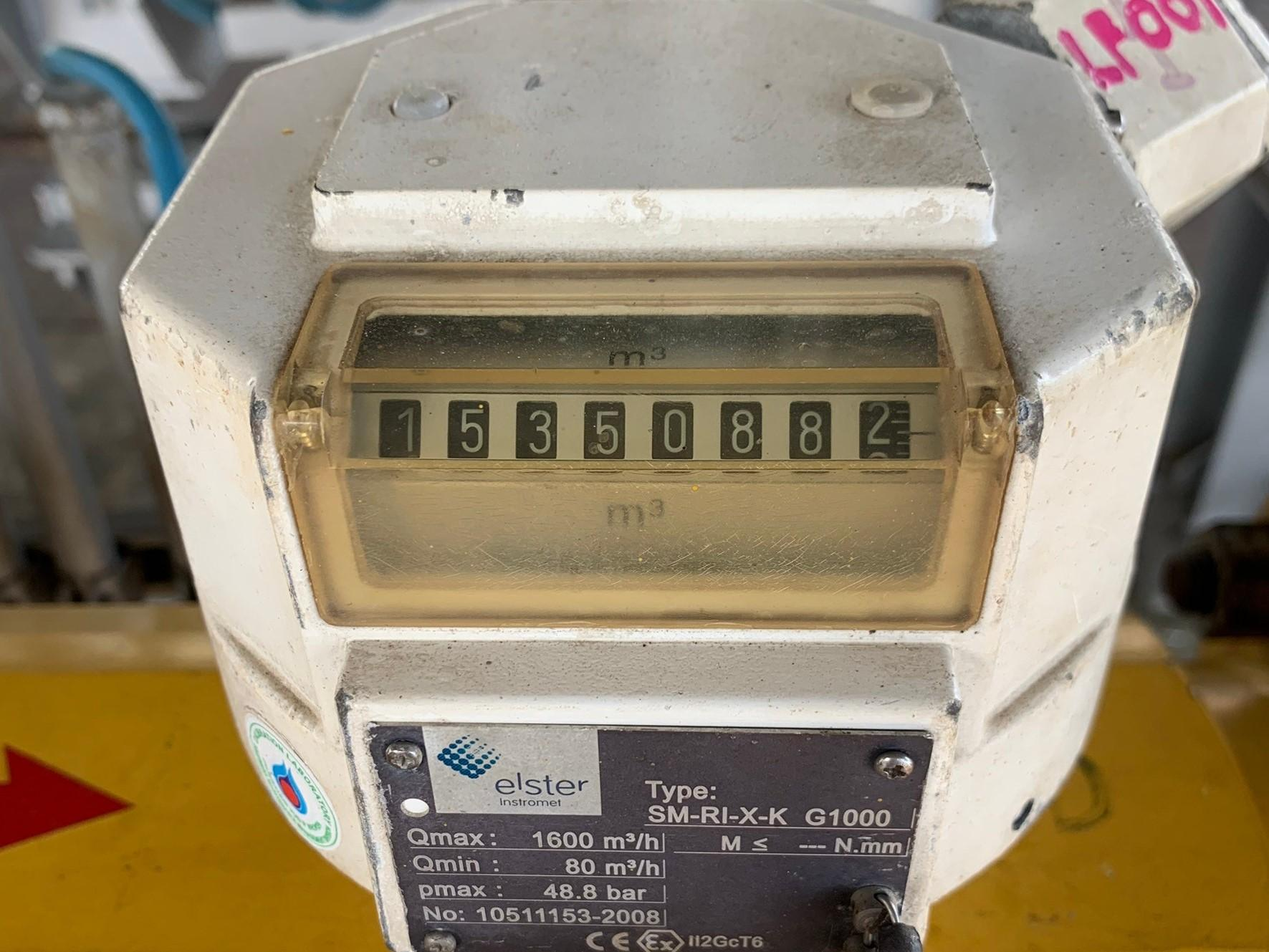analog_dial: (348, 382, 942, 459)
